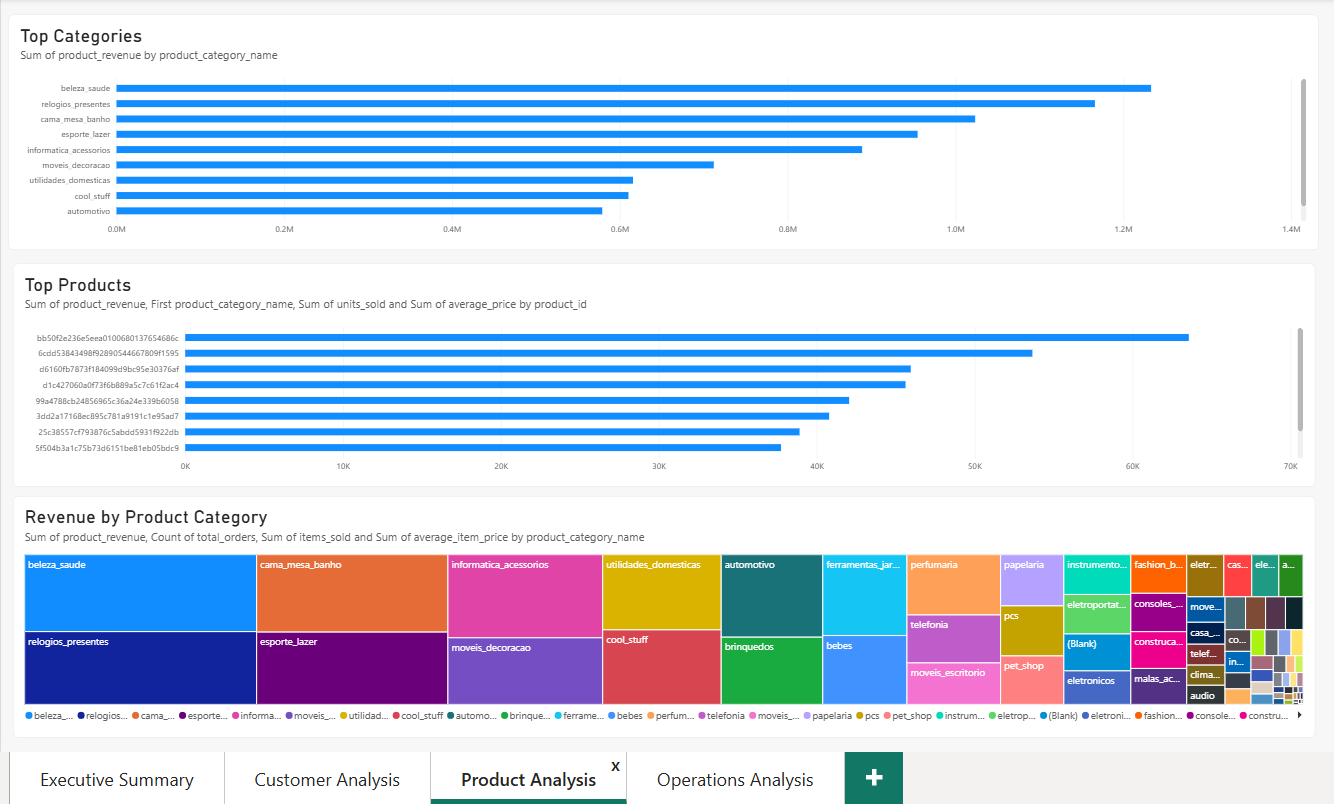

What the dashboard file says about the page in this screenshot:
{"tool":"powerbi","page":{"name":"Product Analysis","canvas":[1920,1080],"ordinal":2},"visuals":[{"type":"clusteredBarChart","title":"Top Categories","fields":{"Category":["public vw_category_performance.product_category_name"],"Y":["Sum(public vw_category_performance.product_revenue)"]},"box":[11.3,22.7,1876.5,337.3],"z":0},{"type":"clusteredBarChart","title":"Top Products","fields":{"Category":["public vw_product_performance.product_id"],"Y":["Sum(public vw_product_performance.product_revenue)"]},"box":[17,379.8,1865.2,320.3],"z":1},{"type":"treemap","title":"Revenue by Product Category","fields":{"Group":["public vw_category_performance.product_category_name"],"Values":["Sum(public vw_category_performance.product_revenue)"]},"box":[17,714.3,1865.2,345.8],"z":2}]}

Visuals, with their boxes on the page's 1920x1080 design canvas (x1, y1, x2, y2). These are canvas units, not pixel positions in the 1334x804 screenshot, which may show the page scaled, cropped or inside an application window:
"Top Categories" clusteredBarChart: <box>11,23,1888,360</box>
"Top Products" clusteredBarChart: <box>17,380,1882,700</box>
"Revenue by Product Category" treemap: <box>17,714,1882,1060</box>
